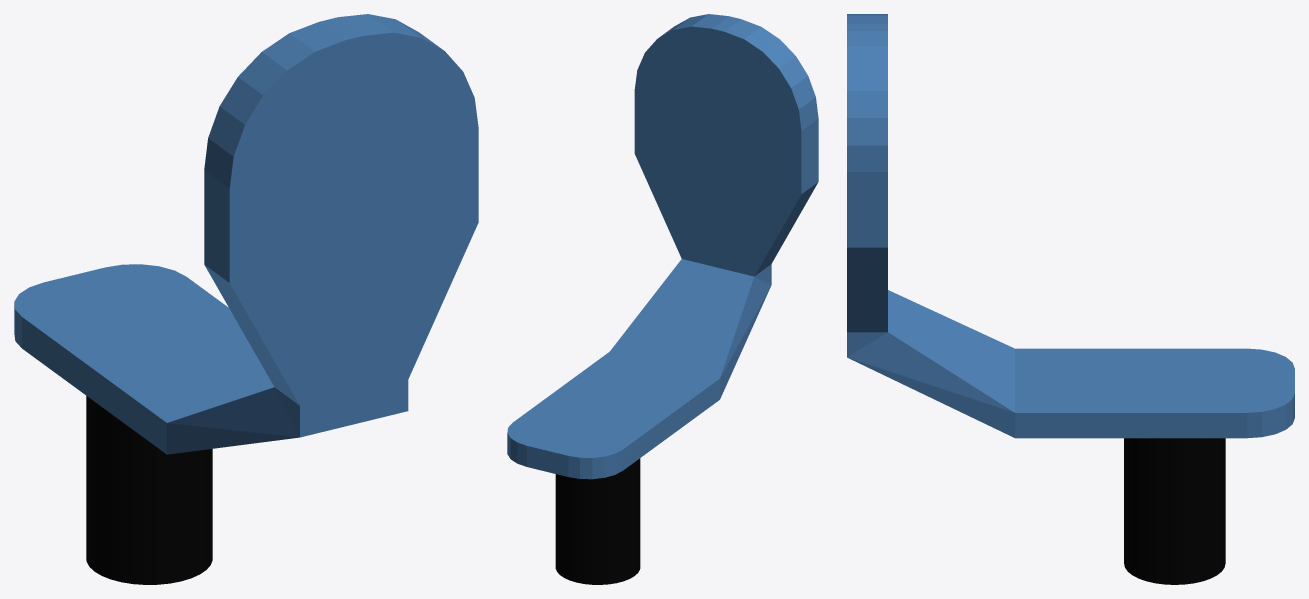
Rendered from VIS_WristLink2.dae.
The picture shows the model from 3 angles, left to right: view 1: azimuth 30°, elevation 25°; view 2: azimuth 150°, elevation 25°; view 3: azimuth 270°, elevation 25°; orthographic projection. The views are drawn at different scales.
Visible parts, largest first — view 1: VIS_WristLink2; view 2: VIS_WristLink2; view 3: VIS_WristLink2.
Boxes of the visible parts, x1,y1,x2,y2 form: VIS_WristLink2: (14, 14, 478, 584); VIS_WristLink2: (507, 14, 818, 584); VIS_WristLink2: (847, 14, 1294, 584).
Size of the model in its own units: 0.0494 by 0.0962 by 0.127.
